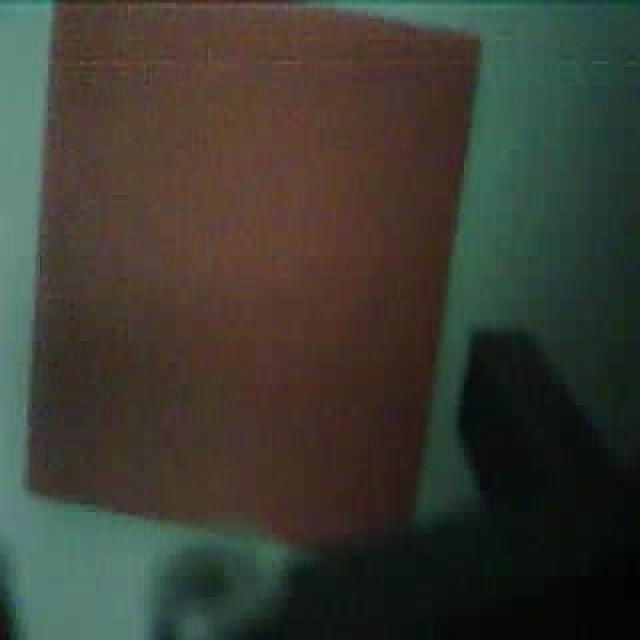red_box: (24, 0, 486, 557)
